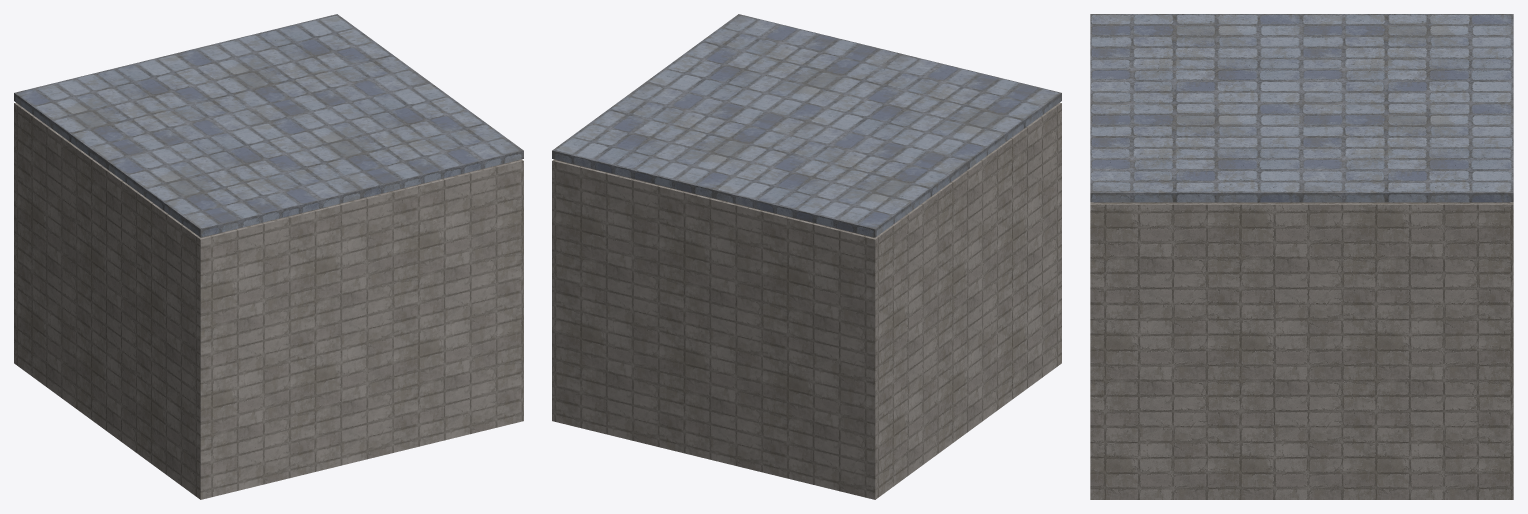
Rendered from SewerSet5_25mV1.fbx.
3 renders of one model, left to right at view 1: azimuth 30°, elevation 25°; view 2: azimuth 150°, elevation 25°; view 3: azimuth 270°, elevation 25°, orthographic. The views are drawn at different scales.
Parts seen in each view (by area): view 1: Box088; view 2: Box088; view 3: Box088.
Part boxes in pixels (x1,y1,x2,y2): Box088: [14, 14, 523, 499]; Box088: [552, 14, 1061, 499]; Box088: [1090, 14, 1513, 499].
Size of the model in its own units: 2500 by 2000 by 2500.
